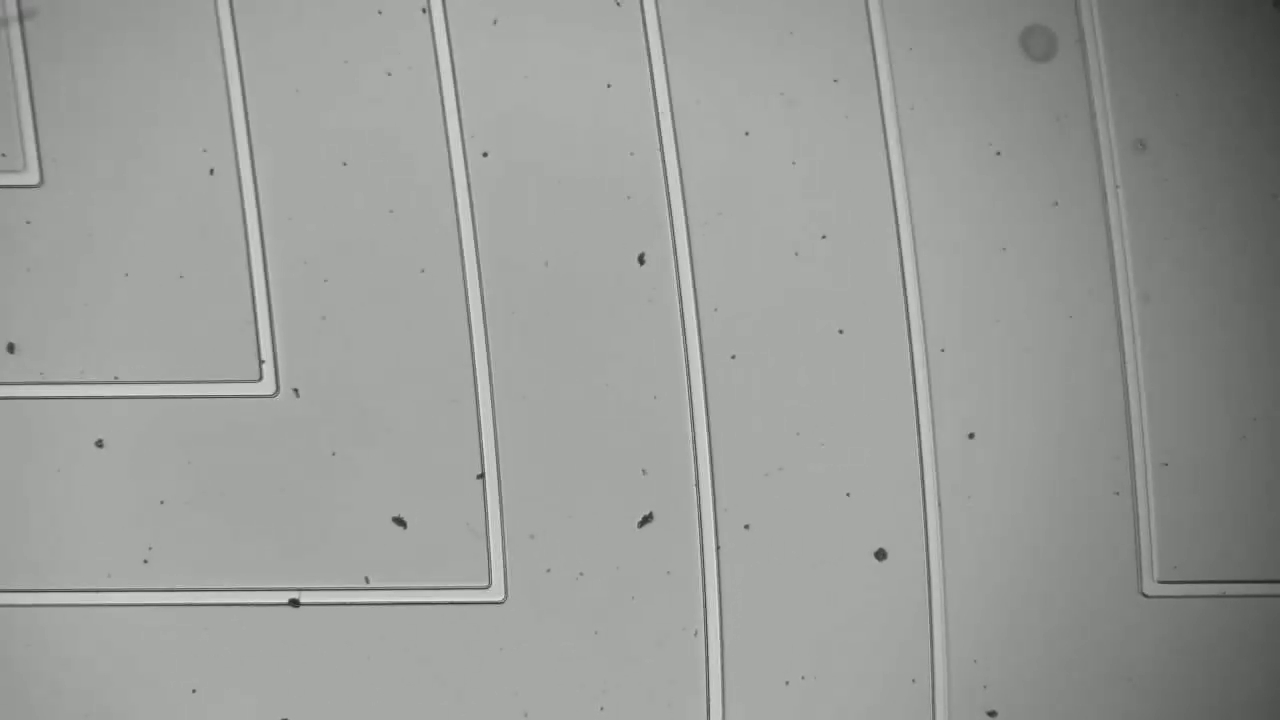stains_enbedded: (282, 581, 306, 614)
